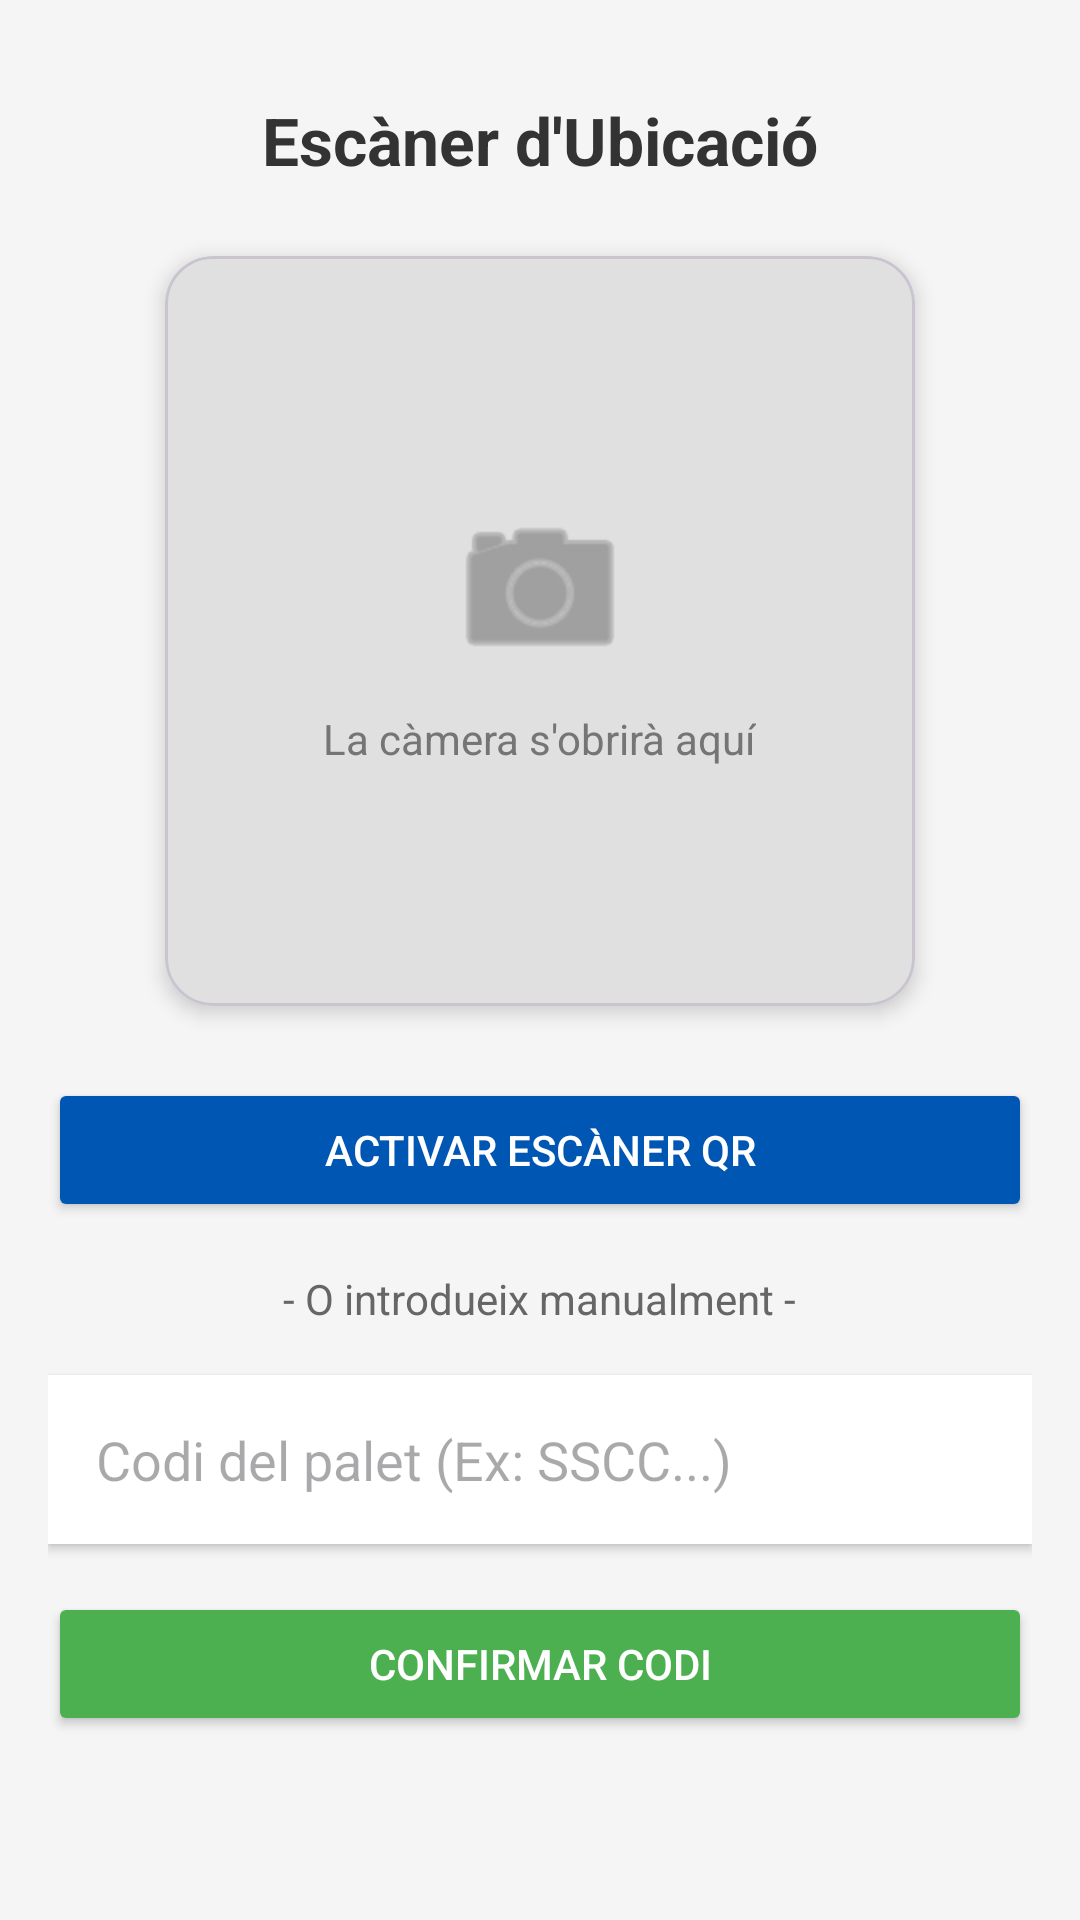

Named icons in this screenshot (1080*1920) and their bounding boxes, (x1, y1, x2, y2):
camera: (467, 529, 613, 645)
